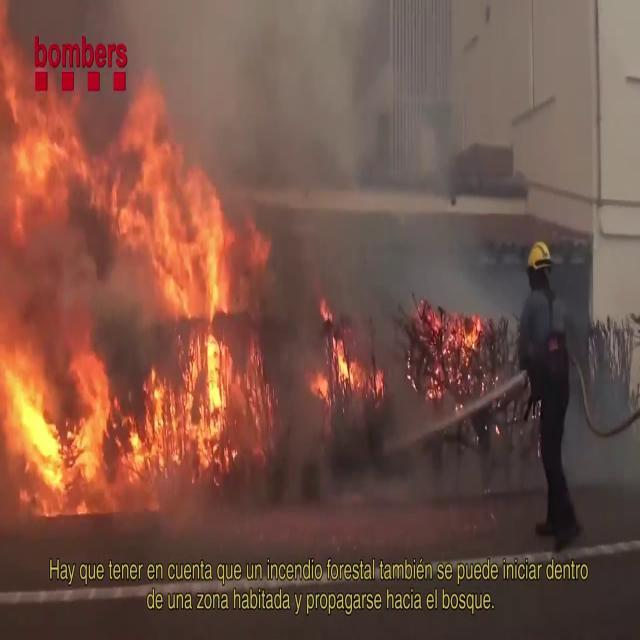Fire: (0, 72, 264, 523), (426, 303, 488, 405), (308, 326, 380, 406)
Smoke: (210, 1, 504, 522)
